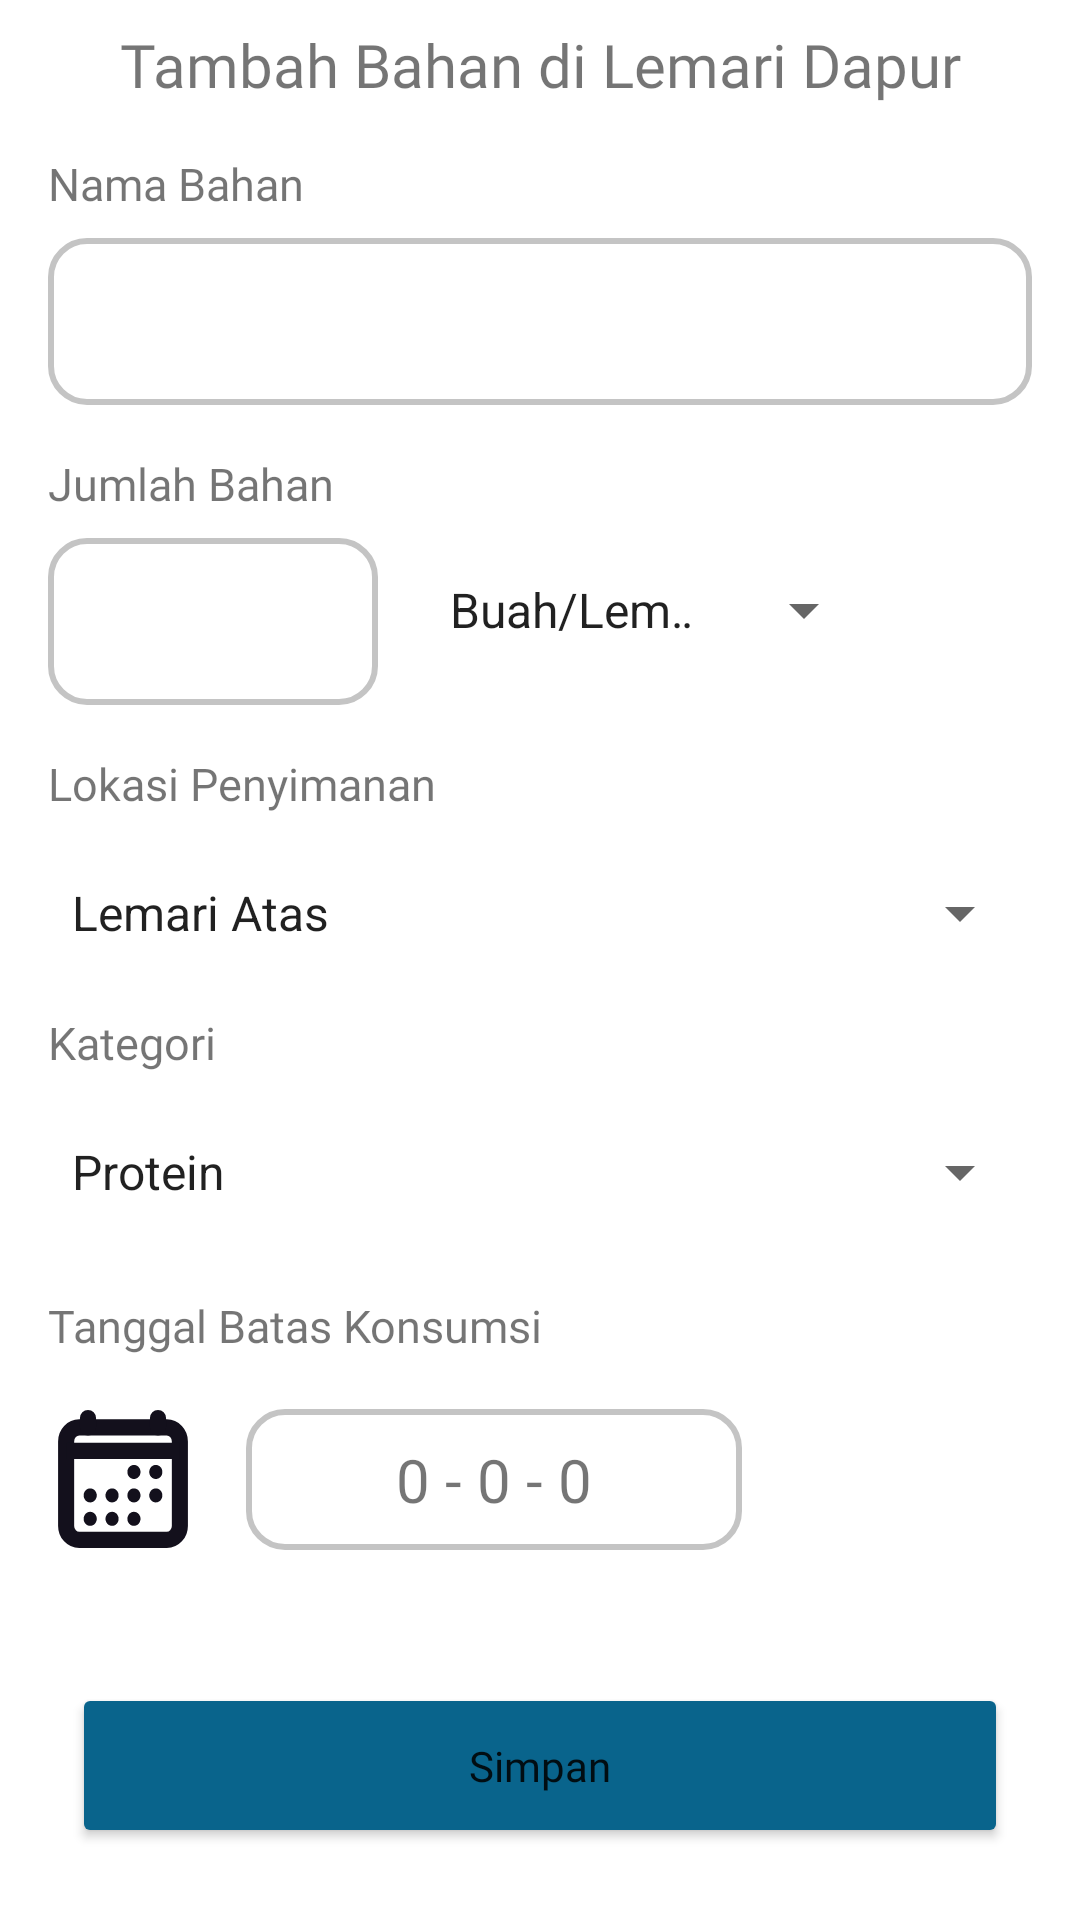

Icon bounding boxes for this 1080px×1920px phone screenshot, format (x1, y1, x2, y2):
calendar add: (58, 1410, 188, 1548)
